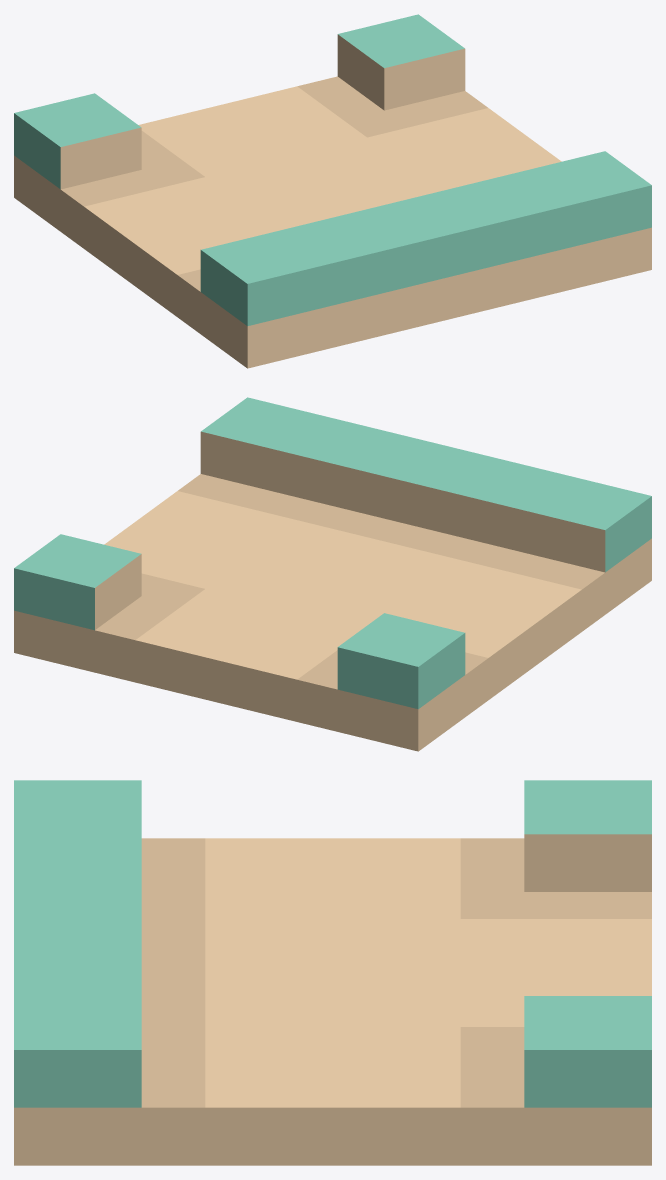
The model's file is Way_T-Cross.fbx.
The picture shows the model from 3 angles, top to bottom: view 1: azimuth 30°, elevation 25°; view 2: azimuth 150°, elevation 25°; view 3: azimuth 270°, elevation 25°; orthographic projection. The views are drawn at different scales.
Parts seen in each view (by area): view 1: Way_T-Cross; view 2: Way_T-Cross; view 3: Way_T-Cross.
Part boxes in pixels (bbox=[...]): Way_T-Cross: bbox=[14, 14, 651, 368]; Way_T-Cross: bbox=[14, 397, 651, 751]; Way_T-Cross: bbox=[14, 780, 651, 1165].
Size of the model in its own units: 1 by 0.2 by 1.
